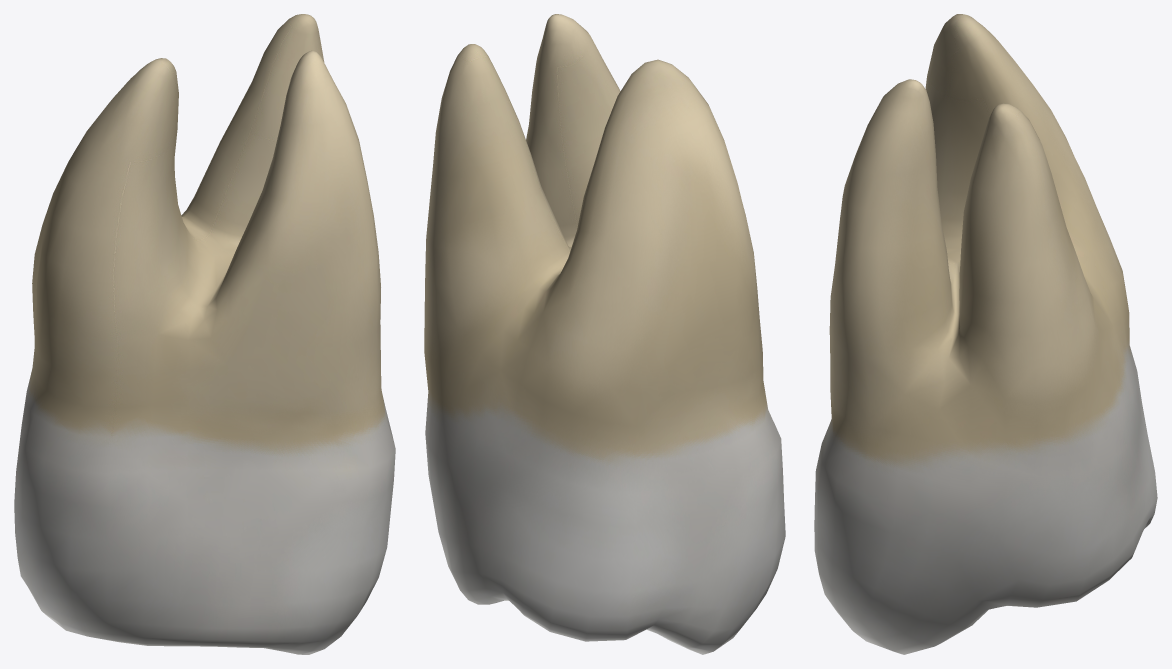
Rendered from tooth-27.glb.
3 views of the same model, side by side, from view 1: azimuth 30°, elevation 25°; view 2: azimuth 150°, elevation 25°; view 3: azimuth 270°, elevation 25° (orthographic).
Parts seen in each view (by area): view 1: polySurface9_blinn19_0; view 2: polySurface9_blinn19_0; view 3: polySurface9_blinn19_0.
Part boxes in pixels (x1,y1,x2,y2): polySurface9_blinn19_0: [14, 14, 395, 654]; polySurface9_blinn19_0: [424, 14, 785, 654]; polySurface9_blinn19_0: [814, 14, 1157, 654].
Bounding box in the file's own units: 0.3306 × 0.5658 × 0.3031.
1 material, 1 textured.
